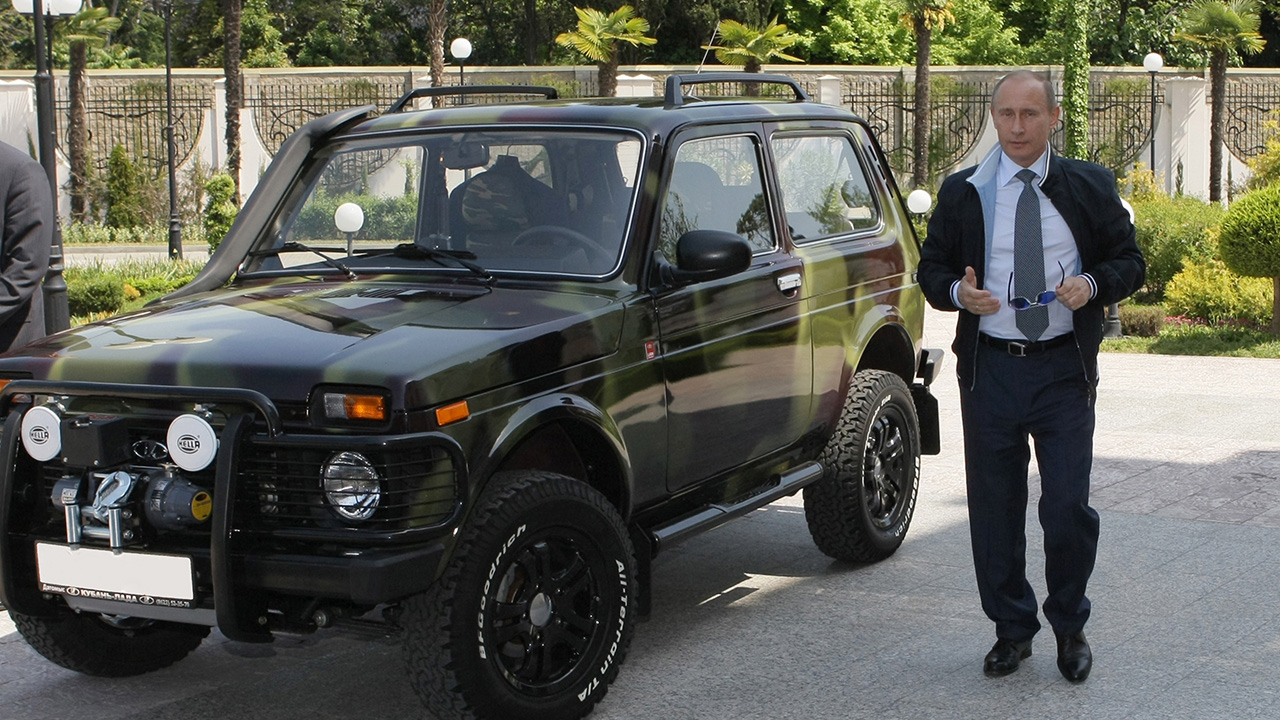car: (1, 83, 933, 720)
plate: (30, 538, 202, 608)
